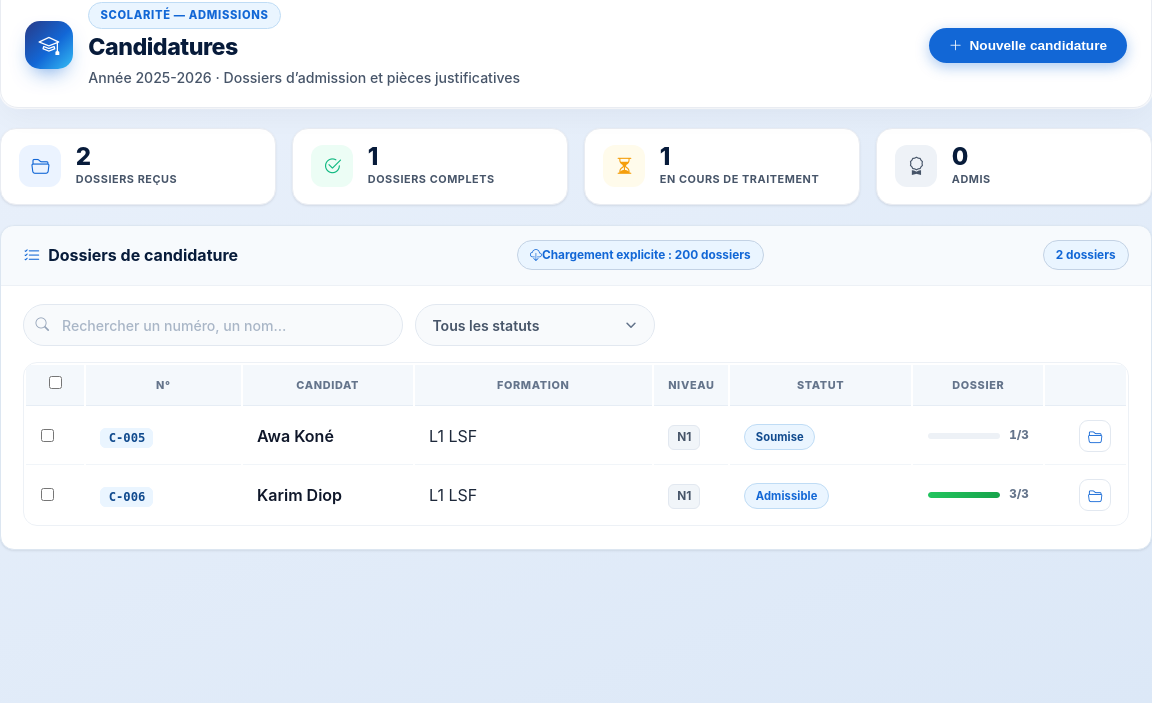
pages/scolarite/Candidatures — panneau Dossier (écritures) › applique une transition de statut puis recharge et notifie
Expected: the text "C-005" is shown, [100,428,154,448]
Click the button named "Ouvrir le dossier C-005". click: click(1095, 436)
box: [1079,420,1111,452]
(page scrolled)
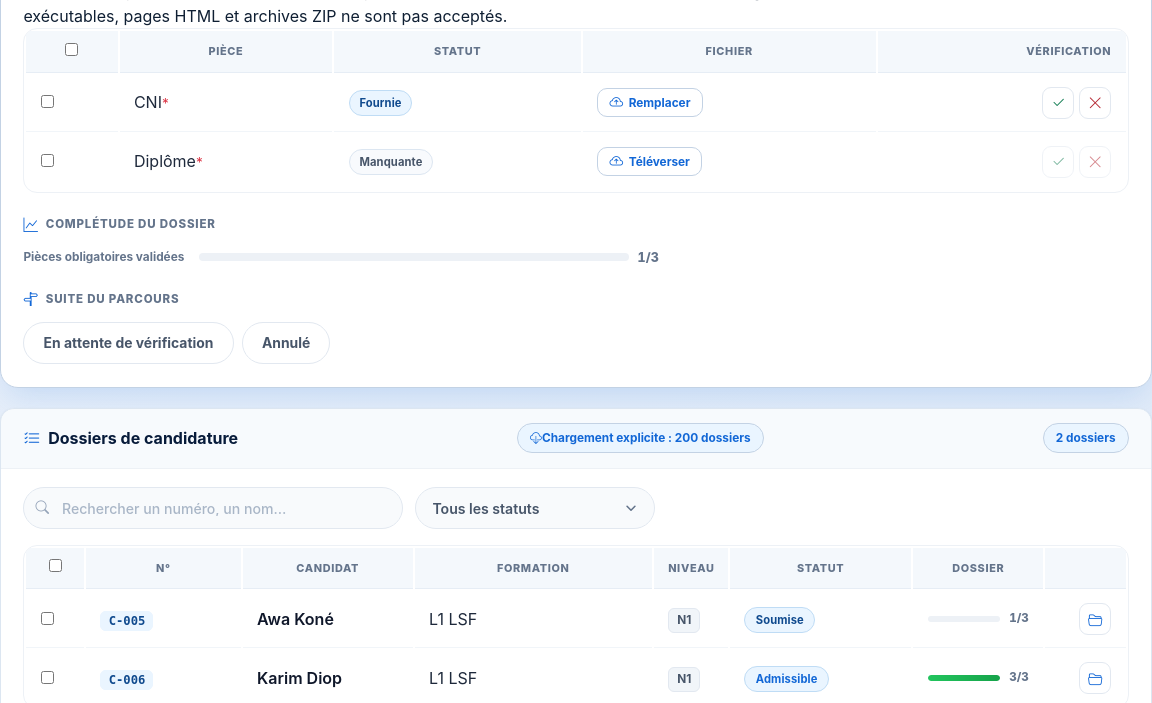
Click the button "En attente de vérification". click: click(129, 343)
box: [23,322,234,364]
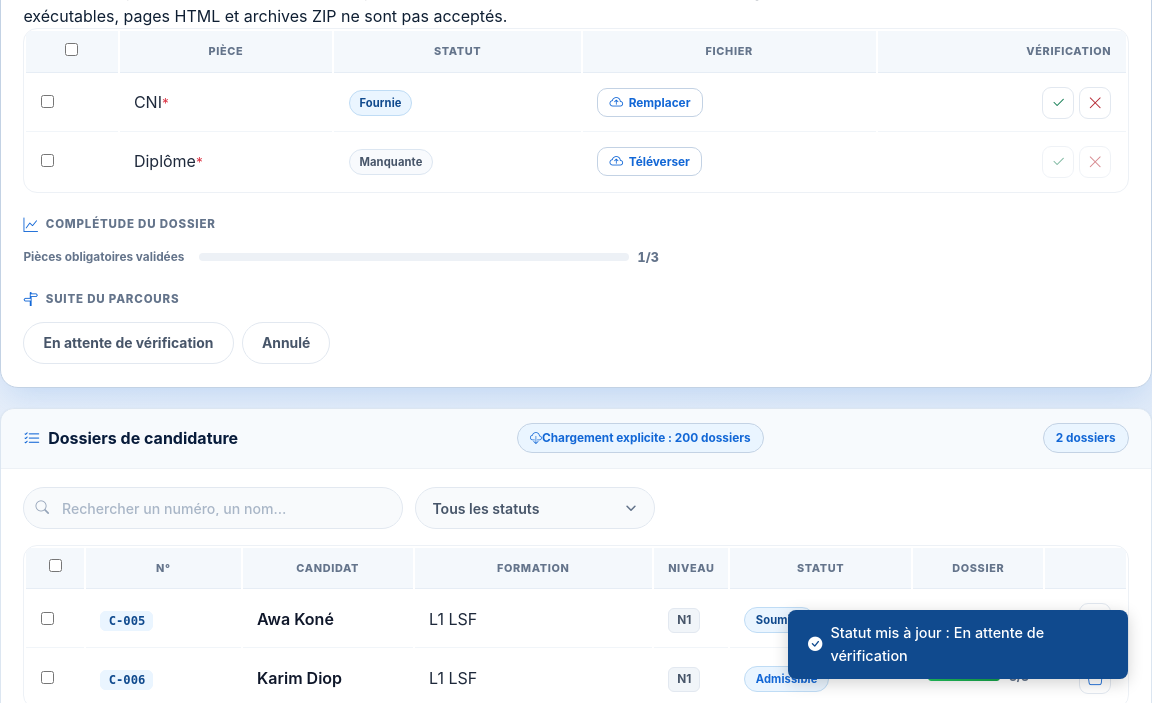
Now the text "Statut mis à jour : En attente de vérification" is shown, box [788,610,1128,679]
